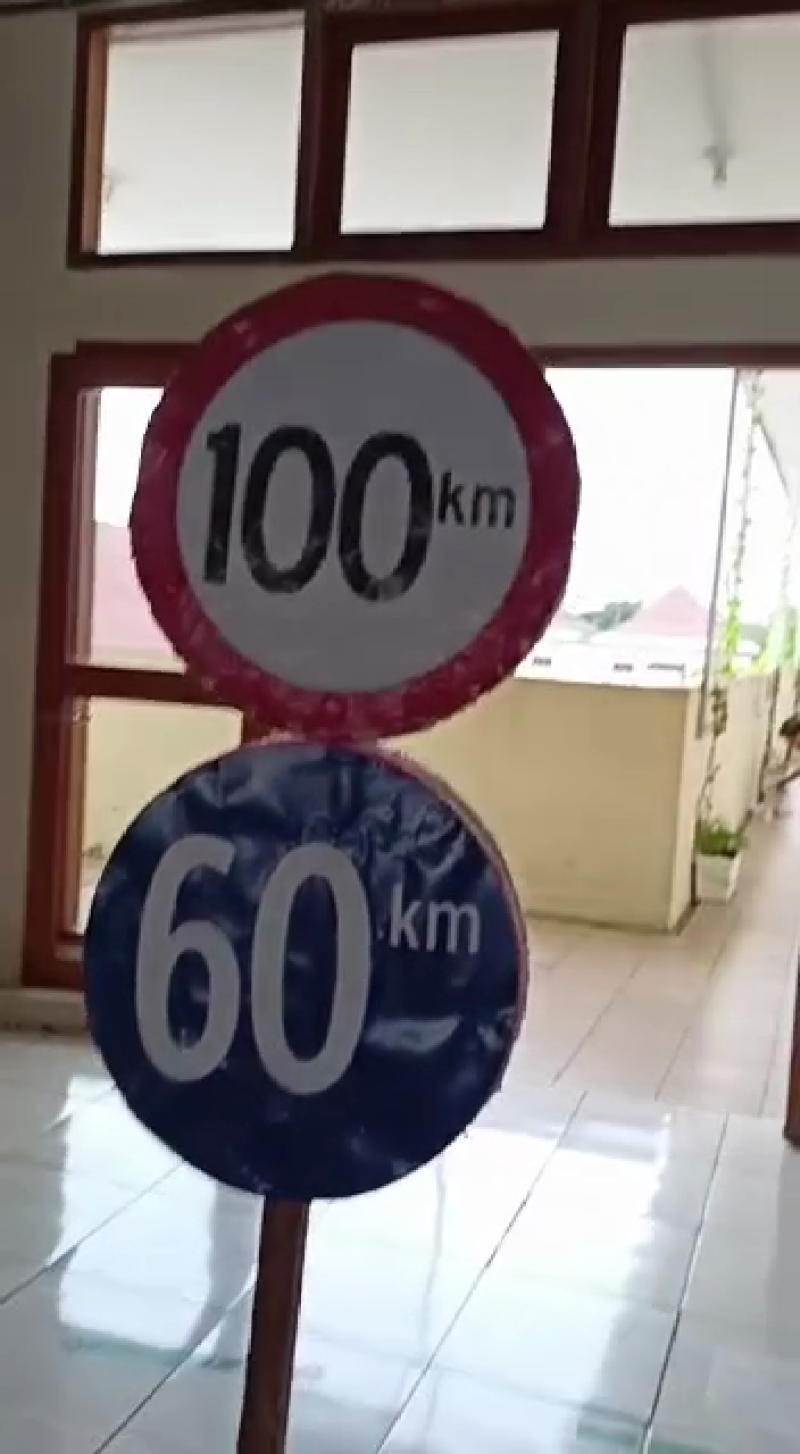batas maksimal 100kmperjam minimal 60kmperjam: (72, 261, 588, 1218)
